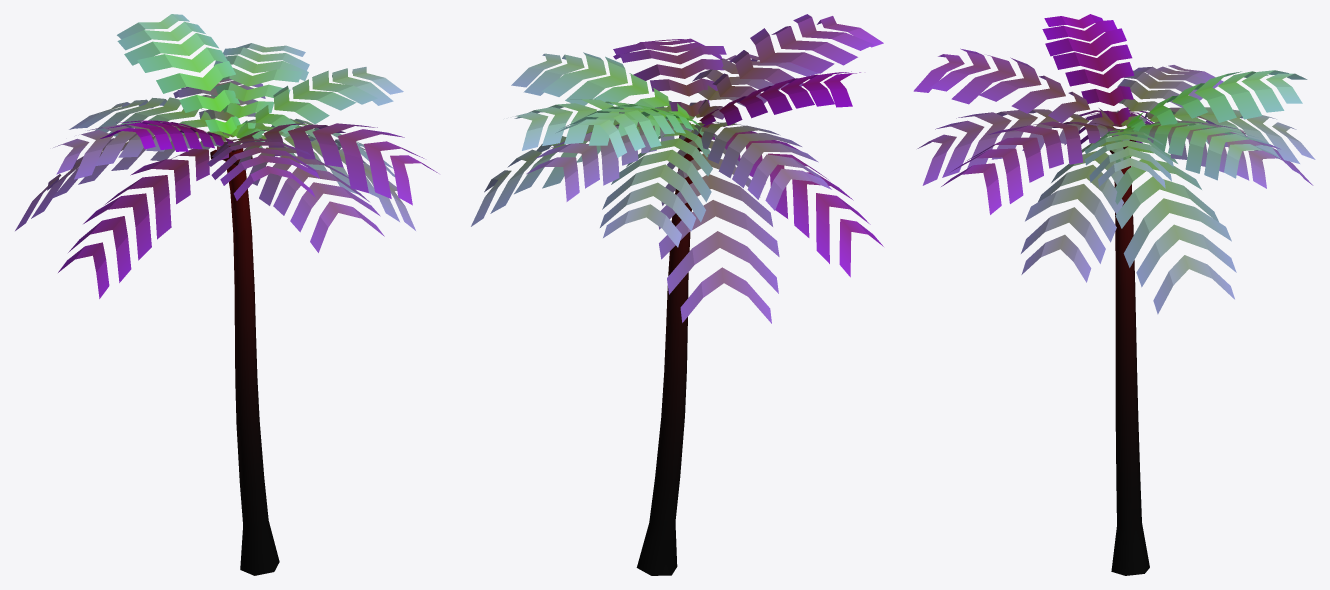
Rendered from Palm4_LOD1.fbx.
The picture shows the model from 3 angles, left to right: view 1: azimuth 30°, elevation 25°; view 2: azimuth 150°, elevation 25°; view 3: azimuth 270°, elevation 25°; orthographic projection. The views are drawn at different scales.
Parts seen in each view (by area): view 1: Palm4_Lite; view 2: Palm4_Lite; view 3: Palm4_Lite.
Boxes of the visible parts, <box> form: Palm4_Lite: <box>15,14,438,575</box>; Palm4_Lite: <box>471,14,883,575</box>; Palm4_Lite: <box>913,14,1315,575</box>.
Size of the model in its own units: 8.48 by 11.44 by 8.67.
